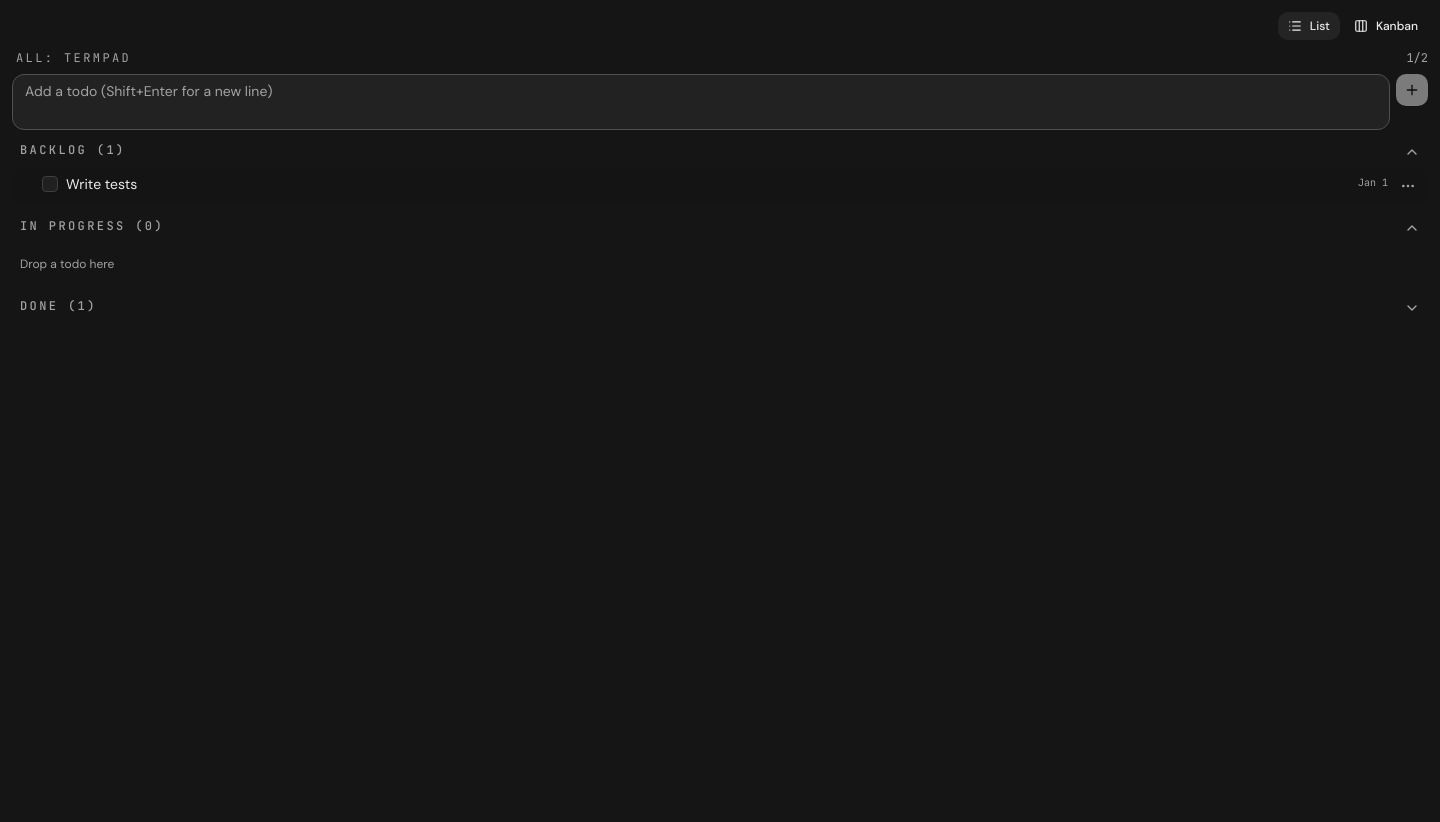
Test: TodosPanel › makes kanban cards draggable without checkboxes or drag handles and keeps editing in the menu
This screenshot has width=1440, height=822.
Click the button "Kanban": [1386, 26] box [1344,12,1428,40]
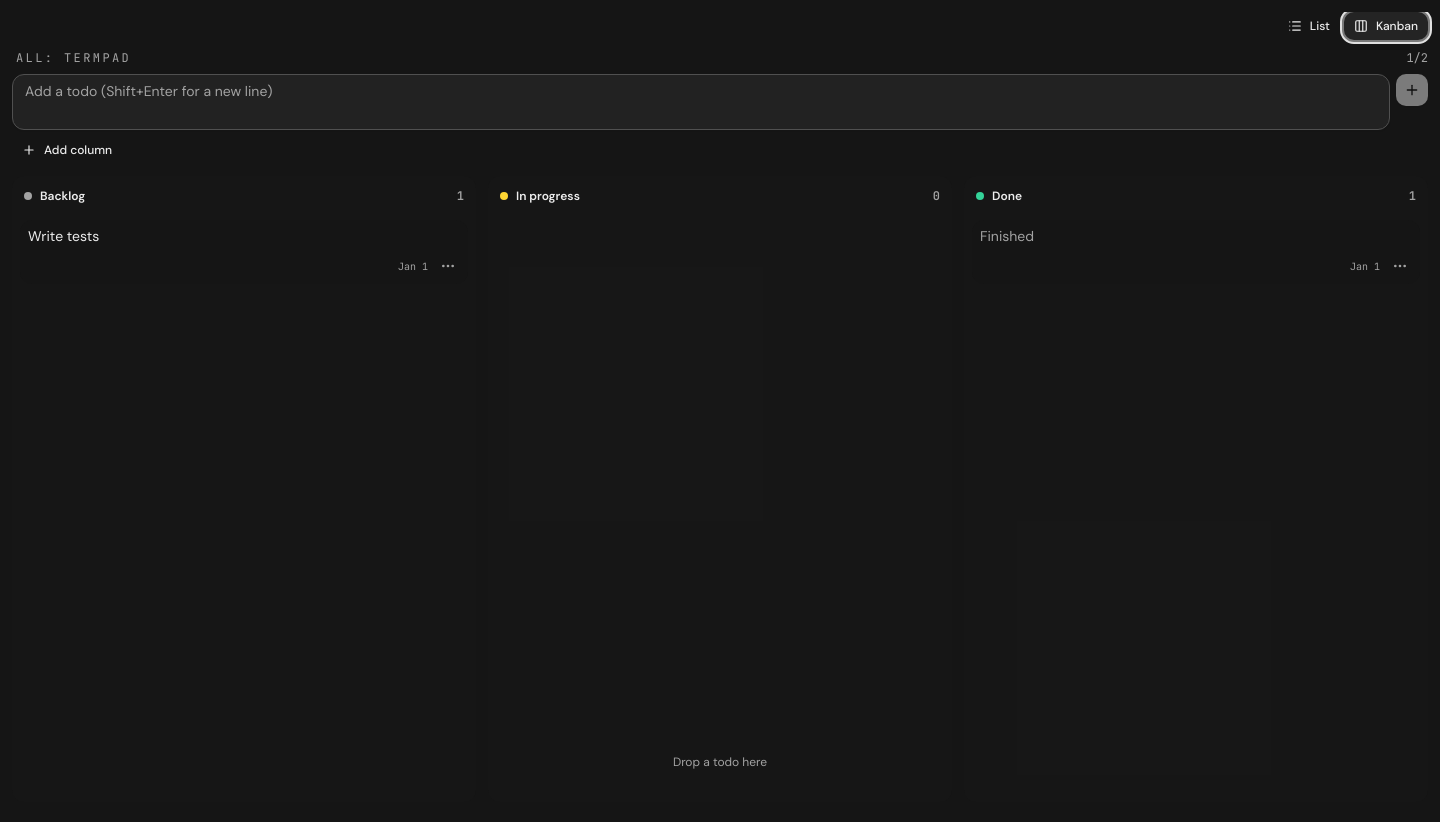
Expected: the checkbox is gone
Expected: the button with aria-label "Move todo: Finished" is shown, [972,220,1420,284]
Click the button named "Actions for \"Write tests\"": [448, 266] box [436,254,460,278]
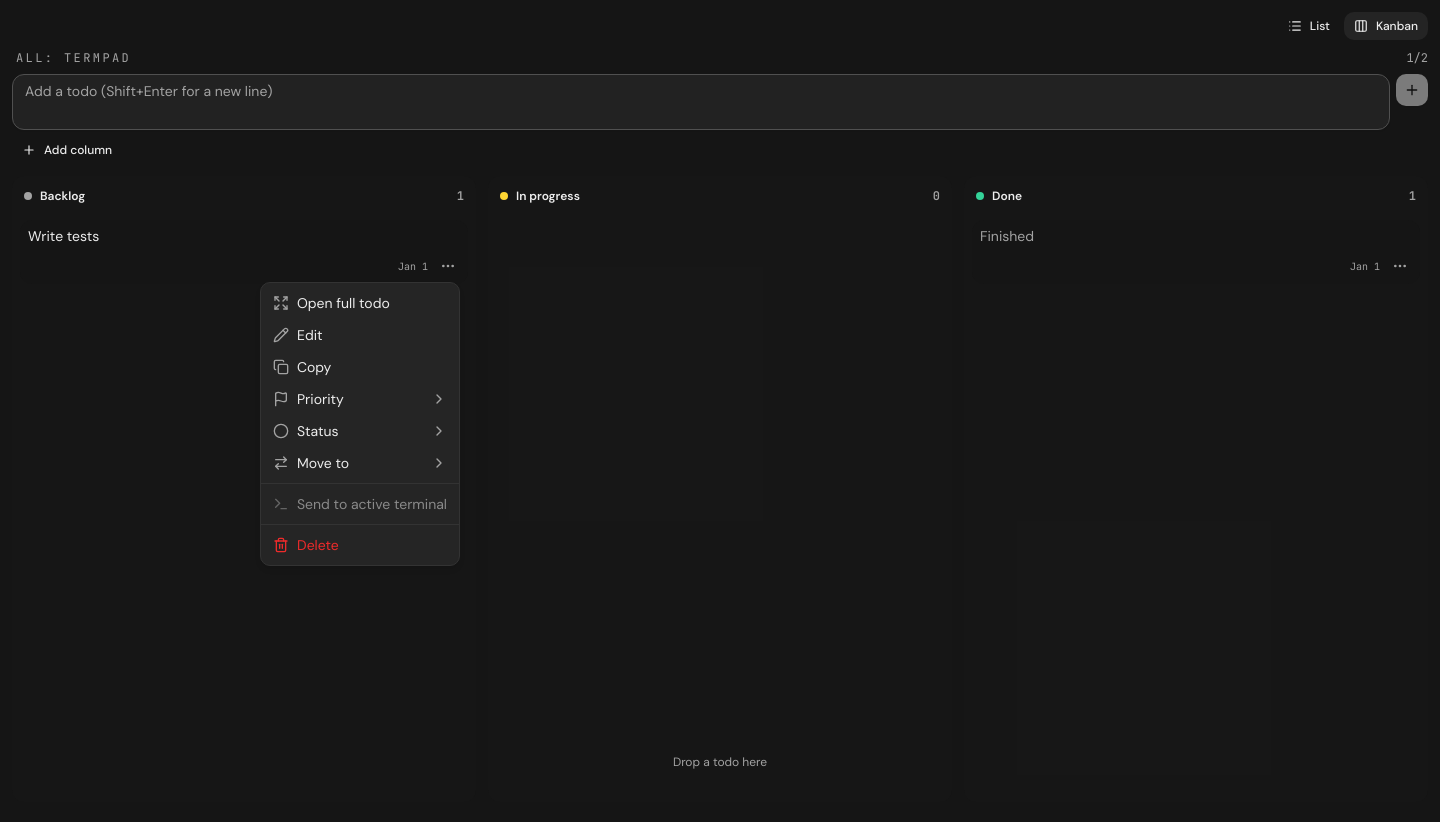
Click the menu item "Edit": [298, 335] box [273,326,322,344]
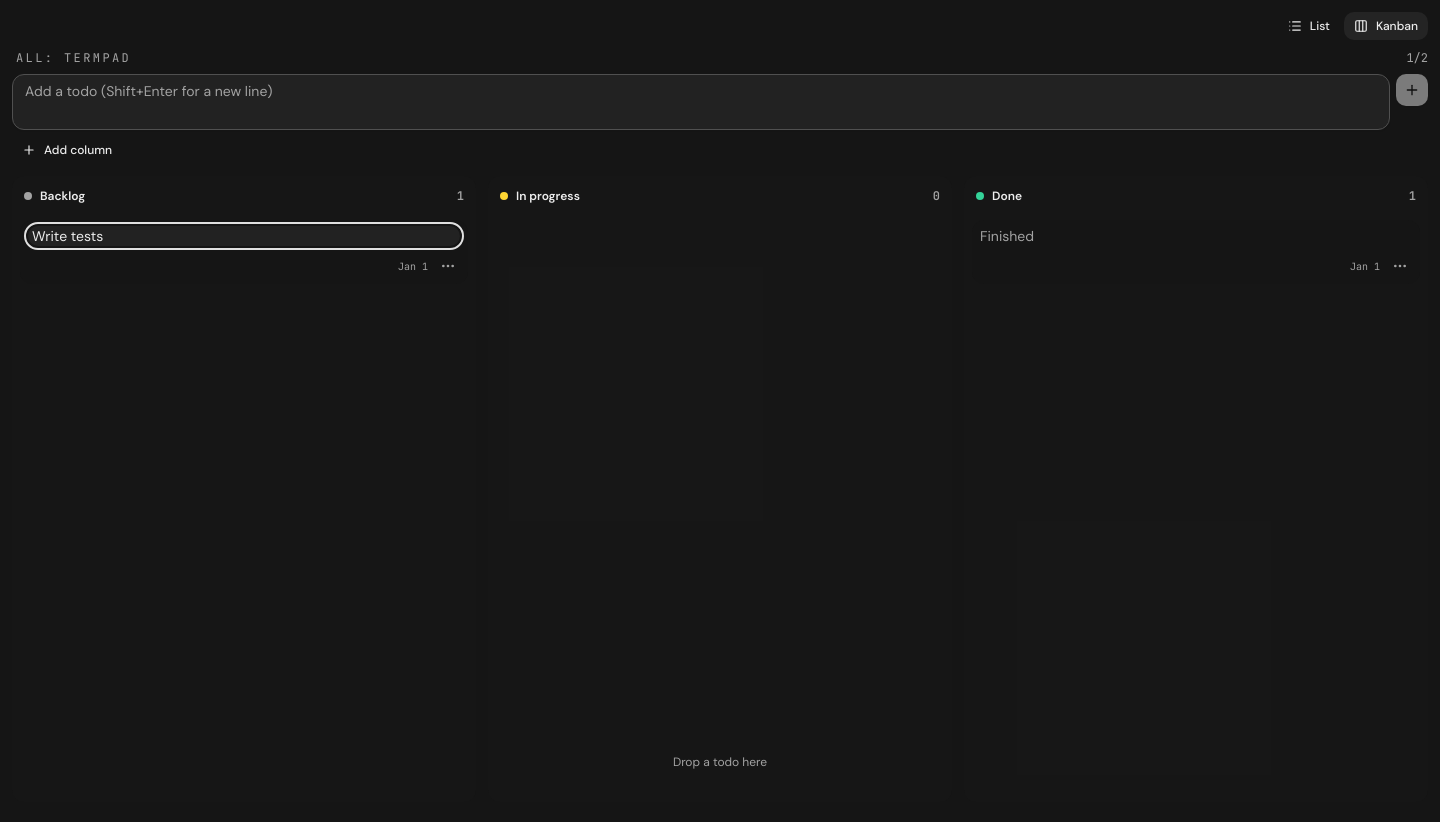
Replace the text in the text box named "Edit \"Write tests\"" with "Updated card": [244, 236] box [28,226,460,246]
Then press Enter
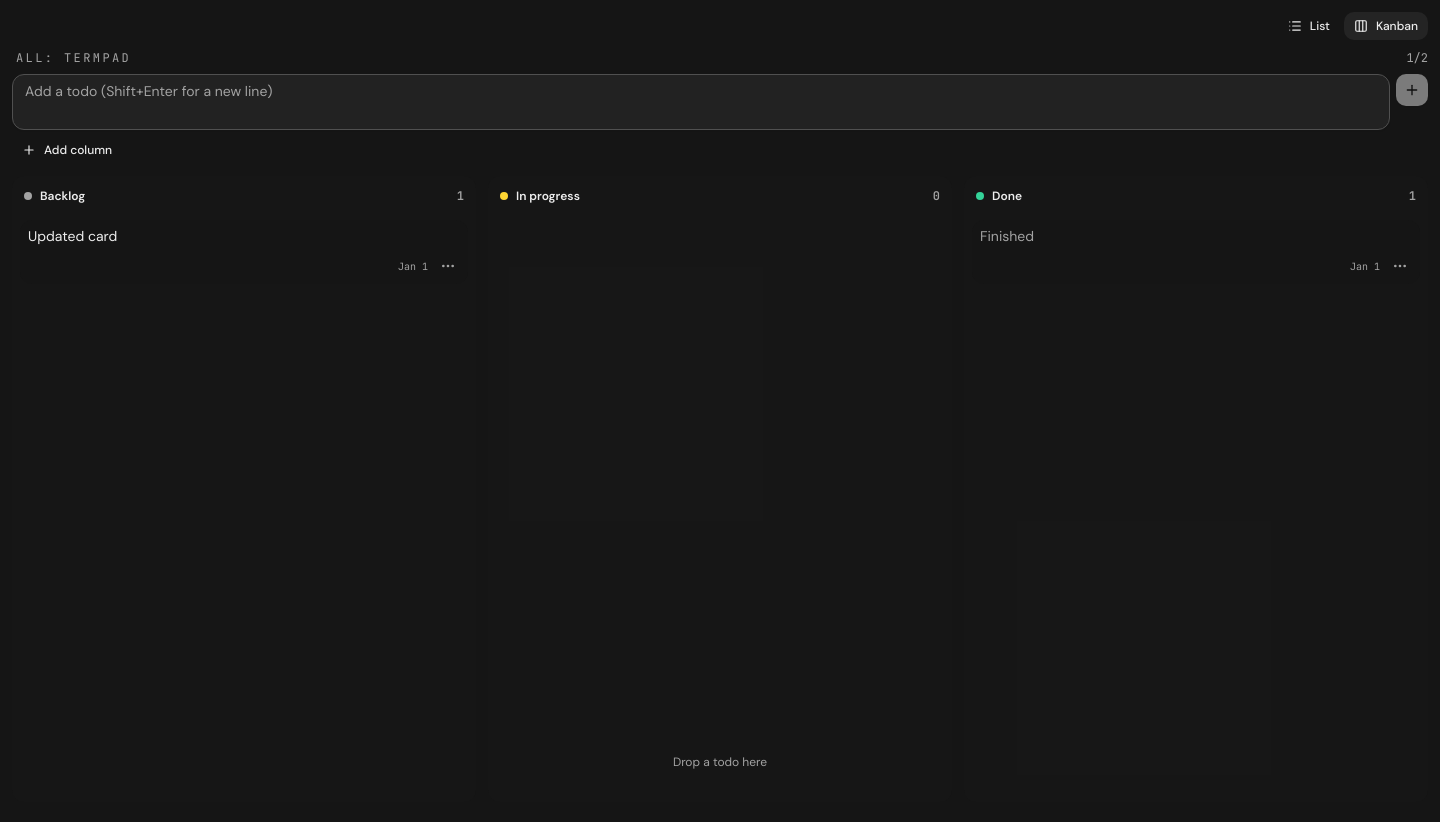
Expected: the text "Updated card" is shown, [28,227,117,245]
Click the button "List": [1309, 26] box [1278,12,1340,40]
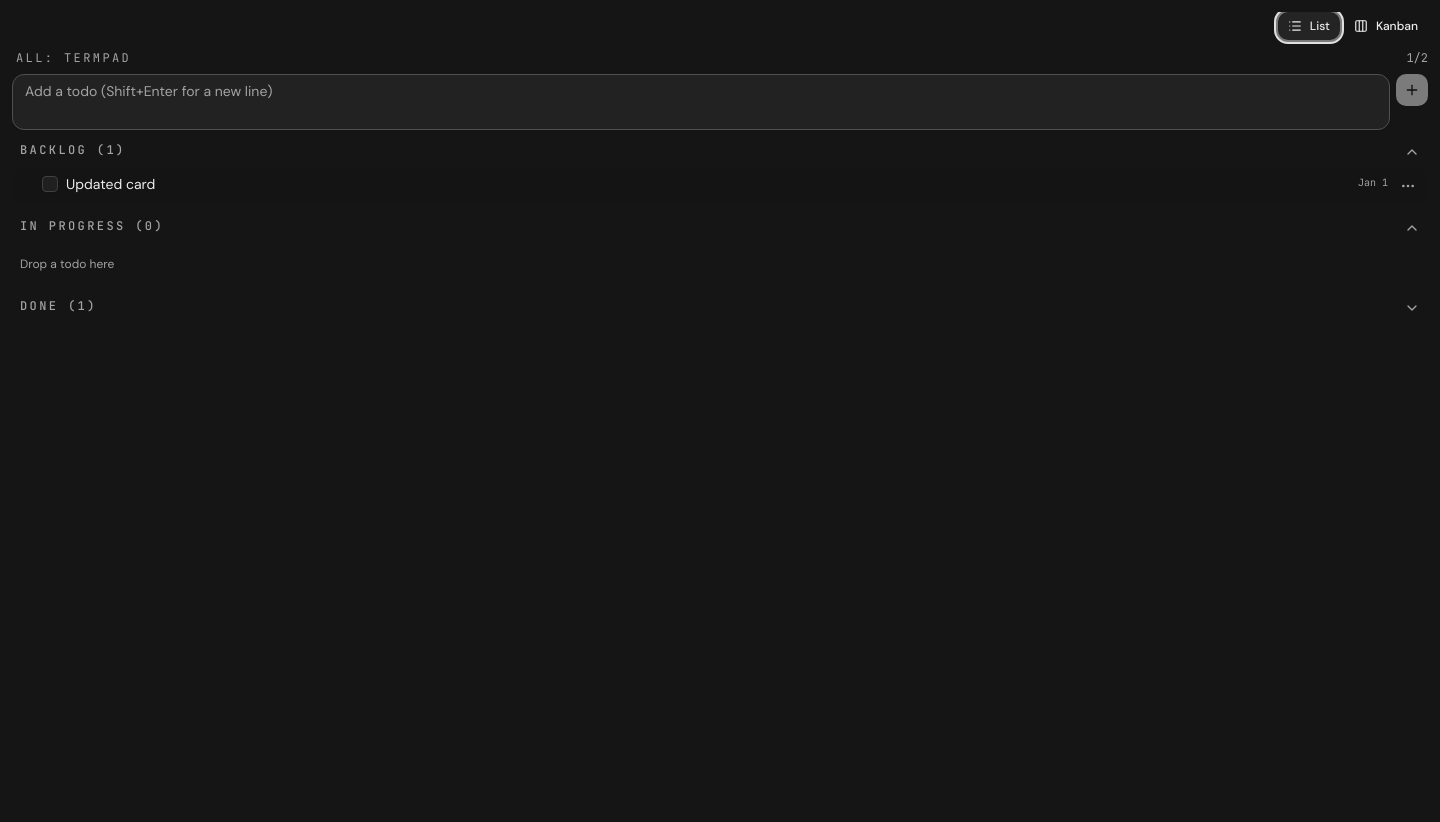
Expected: the checkbox named "Updated card" is shown, [42,176,58,192]
